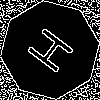H: (25, 25, 84, 81)
